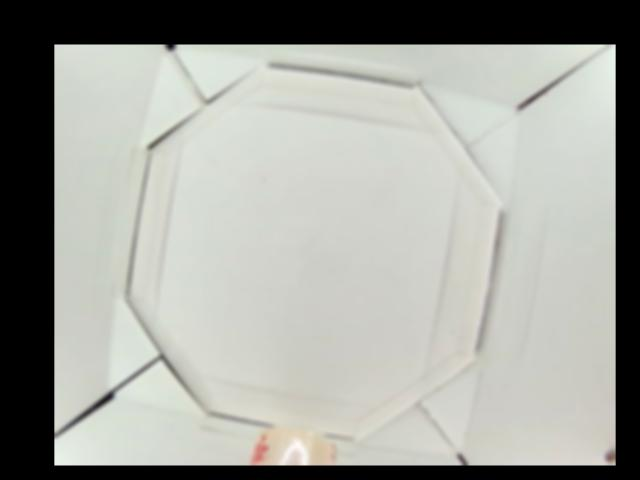Bottle: (251, 425, 337, 465)
